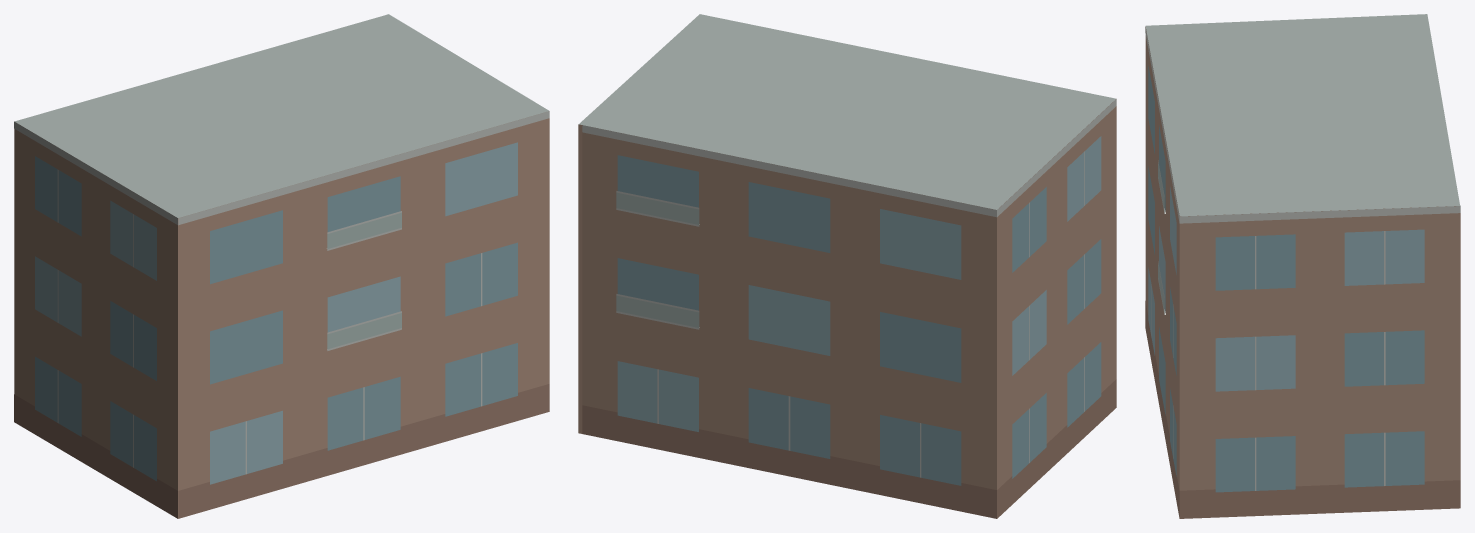
The model's file is survey-upis-32620577.glb.
3 views of the same model, side by side, from view 1: azimuth 30°, elevation 25°; view 2: azimuth 150°, elevation 25°; view 3: azimuth 270°, elevation 25° (orthographic). The views are drawn at different scales.
Parts seen in each view (by area): view 1: survey-upis-32620577.tmp; view 2: survey-upis-32620577.tmp; view 3: survey-upis-32620577.tmp.
Boxes of the visible parts, x1,y1,x2,y2 form: survey-upis-32620577.tmp: (14, 14, 549, 518); survey-upis-32620577.tmp: (578, 14, 1116, 518); survey-upis-32620577.tmp: (1145, 14, 1460, 518).
Size of the model in its own units: 14.72 by 10.25 by 9.68.
